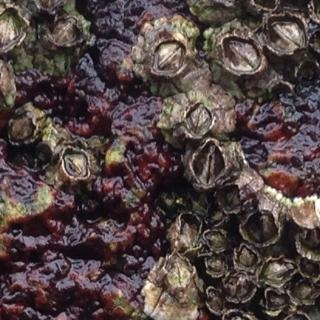Barnacle: (220, 39, 263, 76), (268, 15, 306, 51), (193, 143, 221, 182), (154, 41, 186, 73), (0, 8, 26, 47), (260, 260, 296, 288), (222, 269, 251, 303), (247, 211, 276, 245), (162, 256, 190, 290), (185, 100, 209, 136), (51, 18, 79, 47), (62, 149, 89, 179), (10, 113, 36, 143), (177, 213, 199, 246), (292, 281, 317, 305), (220, 184, 242, 211), (265, 292, 290, 314), (301, 227, 320, 255), (205, 254, 227, 275), (299, 259, 320, 280), (204, 289, 223, 311), (239, 246, 256, 269), (206, 230, 227, 248), (204, 208, 225, 226)
